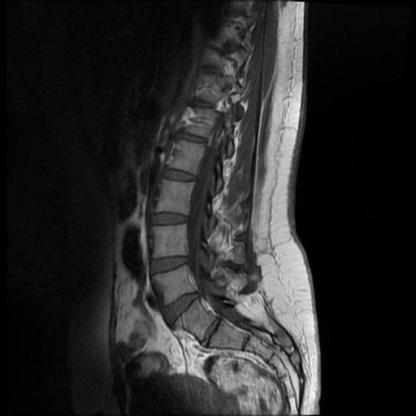Annular Disc Relaxationrotation: (171, 283, 194, 326), (198, 324, 229, 340)
Degenerative Disc Diseaserotation: (172, 285, 194, 328), (163, 168, 198, 185), (198, 324, 229, 340)
Disc Bulgerotation: (163, 168, 198, 185)
